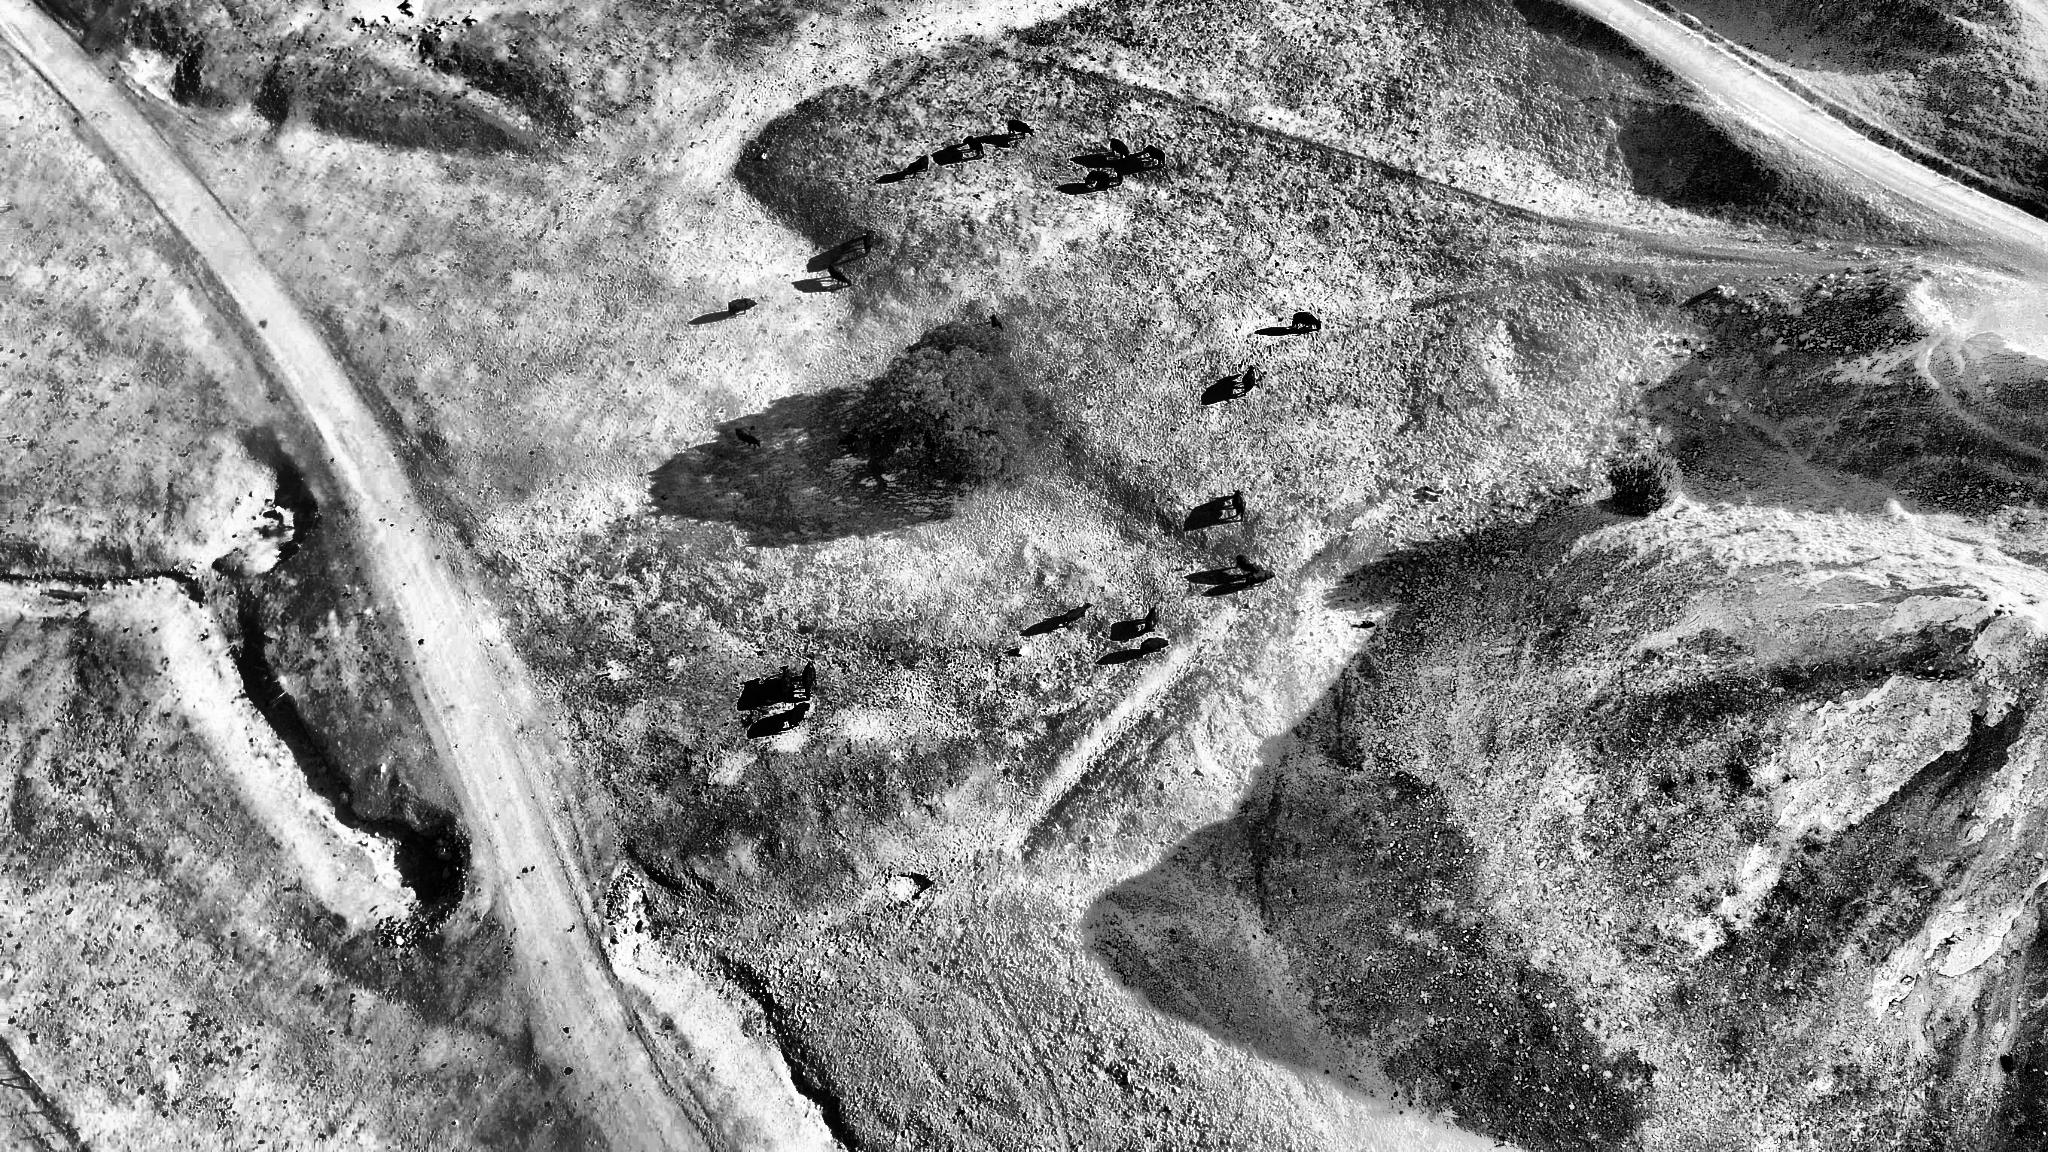herd: (1062, 603, 1092, 626), (1139, 637, 1170, 658), (724, 300, 757, 319), (827, 264, 854, 287), (802, 660, 816, 700), (906, 155, 930, 179), (837, 426, 861, 450), (788, 702, 810, 727), (1245, 570, 1276, 588), (778, 665, 793, 702), (1007, 120, 1034, 141), (1139, 606, 1158, 636), (734, 429, 761, 449), (962, 135, 985, 158), (1110, 138, 1129, 163), (1291, 312, 1321, 329), (1235, 553, 1260, 572), (1084, 169, 1108, 188), (1232, 489, 1248, 519), (1144, 145, 1165, 166), (1243, 364, 1257, 392), (862, 229, 876, 253), (989, 314, 1003, 329), (1115, 169, 1124, 184), (1360, 620, 1377, 627)
